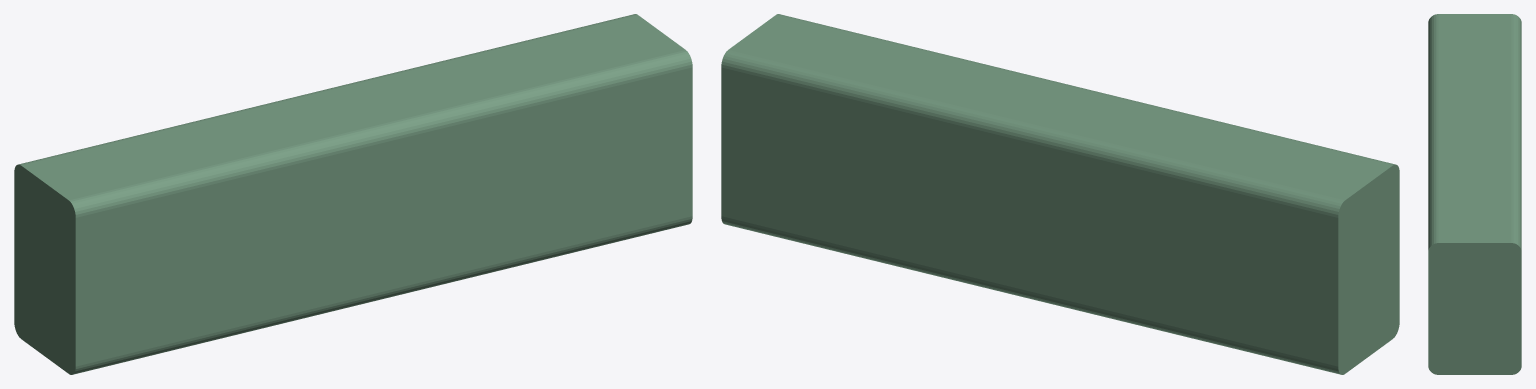
Rendered from peg_48_canonical.obj.
3 renders of one model, left to right at view 1: azimuth 30°, elevation 25°; view 2: azimuth 150°, elevation 25°; view 3: azimuth 270°, elevation 25°, orthographic. The views are drawn at different scales.
Visible parts, largest first — view 1: geometry_0; view 2: geometry_0; view 3: geometry_0.
Part boxes in pixels (x1,y1,x2,y2): geometry_0: [14, 14, 692, 374]; geometry_0: [721, 14, 1399, 374]; geometry_0: [1428, 14, 1521, 374].
Size of the model in its own units: 0.15 by 0.0403 by 0.0259.
